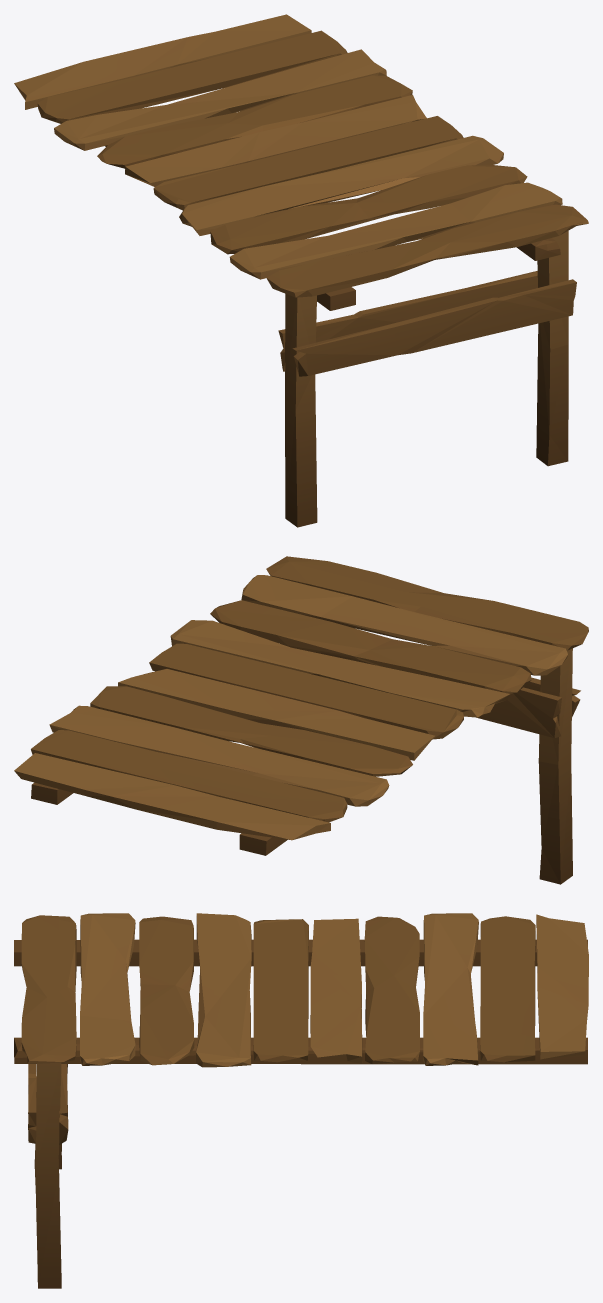
Rendered from ModularWood_02.fbx.
The picture shows the model from 3 angles, top to bottom: view 1: azimuth 30°, elevation 25°; view 2: azimuth 150°, elevation 25°; view 3: azimuth 270°, elevation 25°; orthographic projection. The views are drawn at different scales.
Visible parts, largest first — view 1: ModularWood_02; view 2: ModularWood_02; view 3: ModularWood_02.
Part boxes in pixels (bbox=[...]): ModularWood_02: bbox=[14, 14, 588, 527]; ModularWood_02: bbox=[14, 556, 588, 884]; ModularWood_02: bbox=[14, 913, 588, 1288].
Size of the model in its own units: 180 by 133 by 290.
